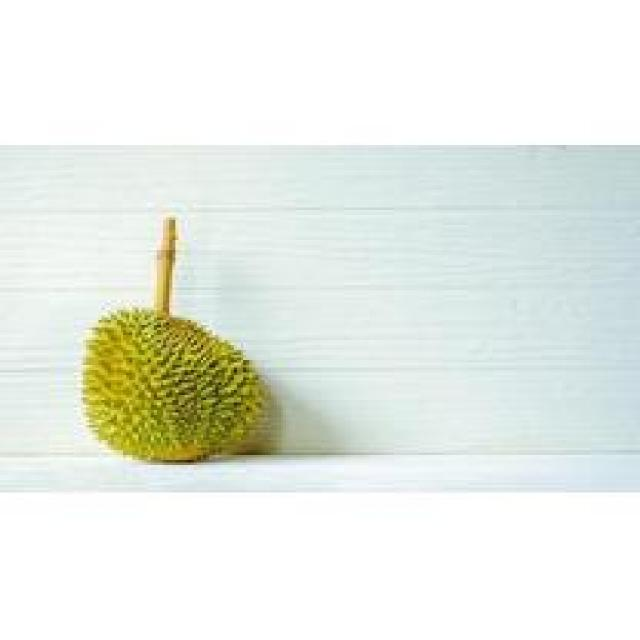fruit: (65, 292, 286, 478)
